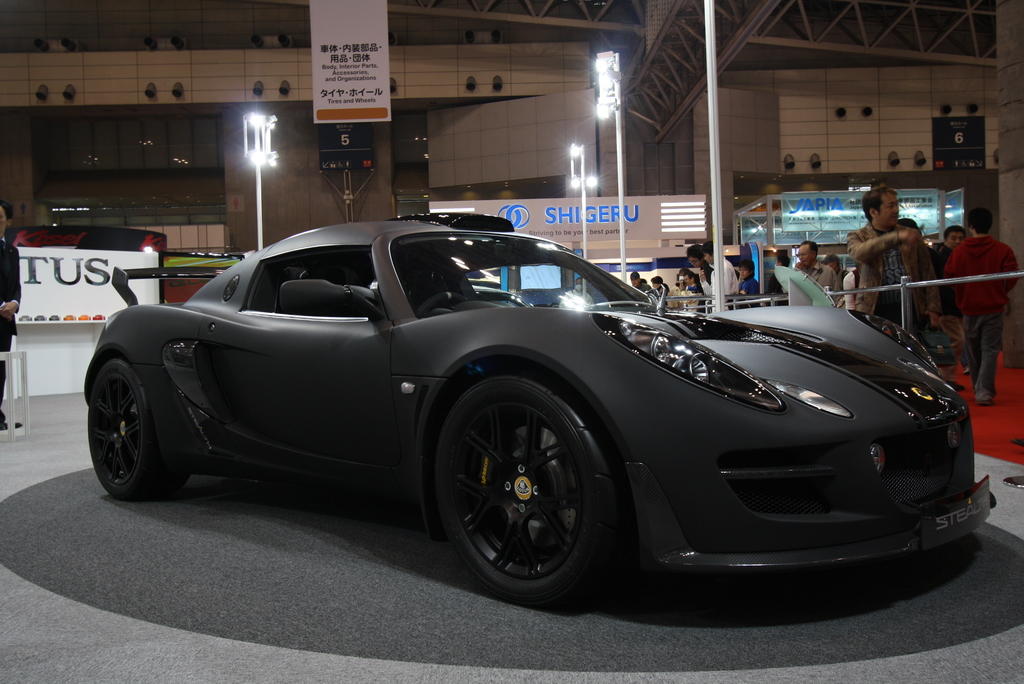Person: (628, 185, 1019, 402), (0, 198, 21, 431)
